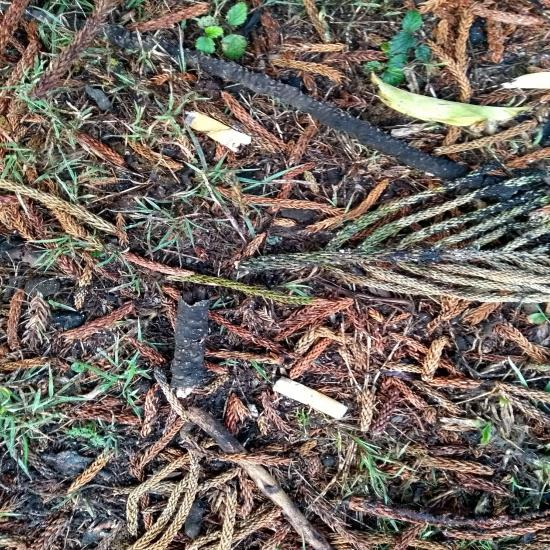Other plastic: (245, 364, 324, 450)
